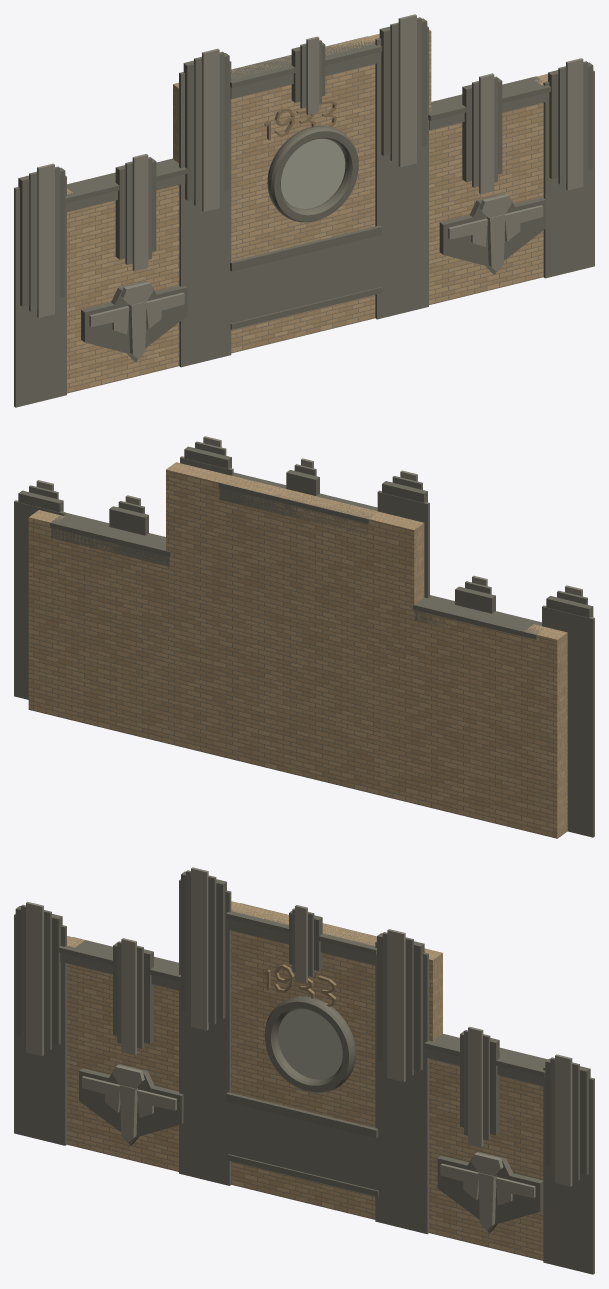
Rendered from huangpu-south-suzhou-1305-warehouse-stepped-crown-web.glb.
3 views of the same model, one above another, from view 1: azimuth 30°, elevation 25°; view 2: azimuth 150°, elevation 25°; view 3: azimuth 330°, elevation 25° (orthographic).
Visible parts, largest first — view 1: 南苏州路1305号仓库山字形圆饰及水泥压花壁柱; view 2: 南苏州路1305号仓库山字形圆饰及水泥压花壁柱; view 3: 南苏州路1305号仓库山字形圆饰及水泥压花壁柱.
Part boxes in pixels (box(x1,y1,x2,y2)): 南苏州路1305号仓库山字形圆饰及水泥压花壁柱: box(14, 14, 594, 407); 南苏州路1305号仓库山字形圆饰及水泥压花壁柱: box(14, 436, 594, 838); 南苏州路1305号仓库山字形圆饰及水泥压花壁柱: box(14, 867, 594, 1274).
Bounding box in the file's own units: 10.11 × 5.23 × 0.535.
6 materials, 1 textured.
